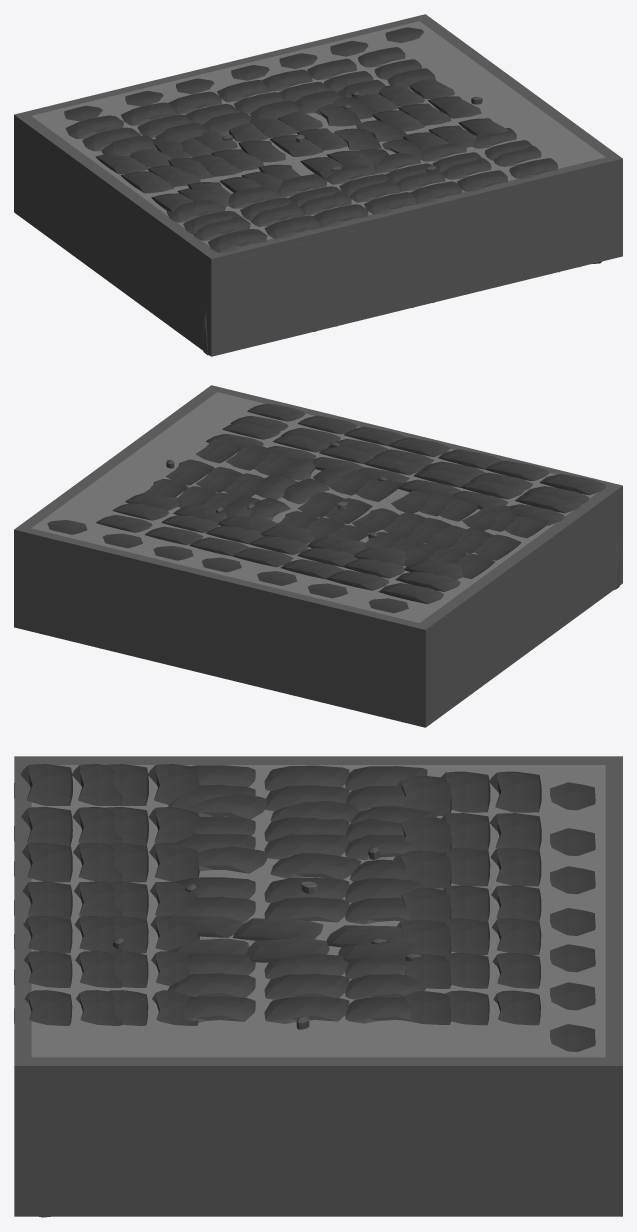
The model's file is gym por dentro.fbx.
The picture shows the model from 3 angles, top to bottom: view 1: azimuth 30°, elevation 25°; view 2: azimuth 150°, elevation 25°; view 3: azimuth 270°, elevation 25°; orthographic projection. The views are drawn at different scales.
Visible parts, largest first — view 1: Cube, Icosphere.134, Icosphere.114, Icosphere.133, Icosphere.135, Icosphere.116, Icosphere.136, Icosphere.115, Icosphere.117, Icosphere.118, Icosphere.142, Icosphere.143 (+11 smaller); view 2: Cube, Icosphere.134, Icosphere.114, Icosphere.116, Icosphere.136, Icosphere.133, Icosphere.135, Icosphere.115, Icosphere.117, Icosphere.118, Icosphere.143, Icosphere.142 (+11 smaller); view 3: Cube, Icosphere.134, Icosphere.114, Icosphere.116, Icosphere.133, Icosphere.135, Icosphere.136, Icosphere.115, Icosphere.117, Icosphere.142, Icosphere.143, Icosphere.118 (+11 smaller).
Boxes of the visible parts, x1,y1,x2,y2 form: Cube: [14, 14, 622, 356]; Icosphere.134: [208, 158, 557, 258]; Icosphere.114: [65, 47, 405, 138]; Icosphere.133: [193, 146, 541, 240]; Icosphere.135: [166, 128, 516, 222]; Icosphere.116: [82, 59, 421, 151]; Icosphere.136: [183, 140, 532, 234]; Icosphere.115: [64, 27, 423, 121]; Icosphere.117: [250, 68, 435, 119]; Icosphere.118: [101, 112, 252, 155]; Icosphere.142: [379, 85, 476, 147]; Icosphere.143: [409, 78, 508, 135]; Cube: [14, 385, 622, 727]; Icosphere.134: [247, 403, 605, 495]; Icosphere.114: [96, 515, 443, 604]; Icosphere.116: [112, 503, 460, 591]; Icosphere.136: [222, 423, 580, 513]; Icosphere.133: [230, 415, 589, 504]; Icosphere.135: [206, 434, 564, 525]; Icosphere.115: [47, 520, 408, 613]; Icosphere.117: [125, 493, 314, 543]; Icosphere.118: [308, 537, 463, 579]; Icosphere.143: [143, 438, 240, 497]; Icosphere.142: [176, 445, 270, 507]; Cube: [14, 756, 622, 1216]; Icosphere.134: [14, 764, 72, 1025]; Icosphere.114: [489, 771, 541, 1025]; Icosphere.116: [440, 771, 490, 1025]; Icosphere.133: [72, 764, 121, 1025]; Icosphere.135: [148, 764, 199, 1025]; Icosphere.136: [104, 764, 148, 1025]; Icosphere.115: [550, 782, 595, 1051]; Icosphere.117: [396, 887, 451, 1024]; Icosphere.142: [168, 973, 425, 999]; Icosphere.143: [181, 996, 412, 1023]; Icosphere.118: [393, 776, 451, 888].
Bounding box in the file's own units: 35712 × 9469 × 29595.
Materials: 10 (7 with a texture image).
